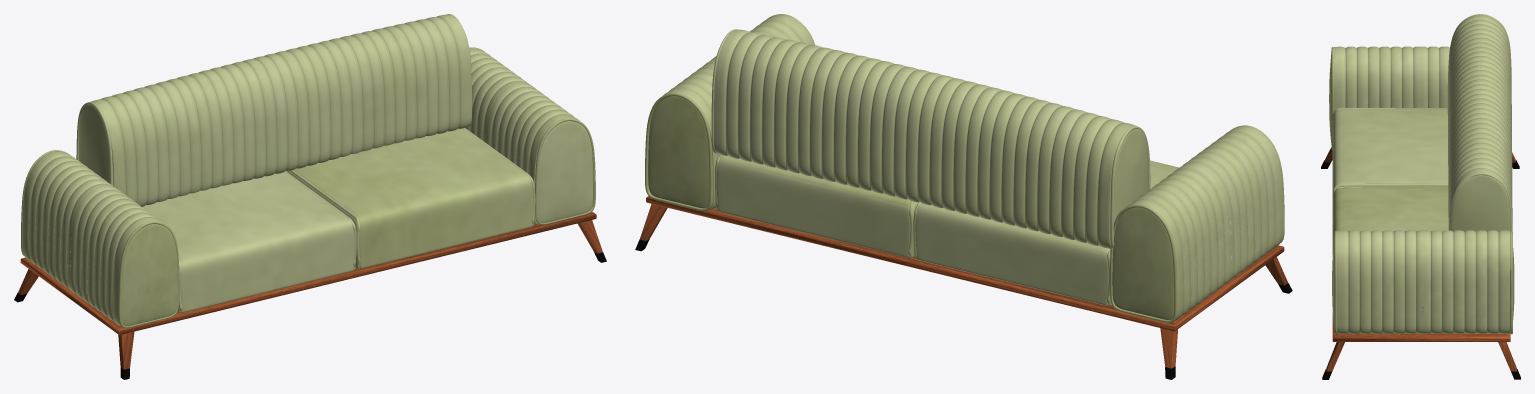
The model's file is Modern Solid 3 Seater Sofa Couch for Living Room Bedroom Hall Office (Dark Olive Green)fixed.glb.
3 views of the same model, side by side, from view 1: azimuth 30°, elevation 25°; view 2: azimuth 150°, elevation 25°; view 3: azimuth 270°, elevation 25° (orthographic). The views are drawn at different scales.
Visible parts, largest first — view 1: Shape017; view 2: Shape017; view 3: Shape017.
Boxes of the visible parts, <box> form: Shape017: <box>14,14,606,379</box>; Shape017: <box>635,14,1292,379</box>; Shape017: <box>1321,14,1520,379</box>.
Bounding box in the file's own units: 1.51 × 0.601 × 0.5982.
3 materials, 2 textured.
